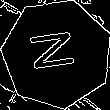N_E: (29, 30, 85, 77)
